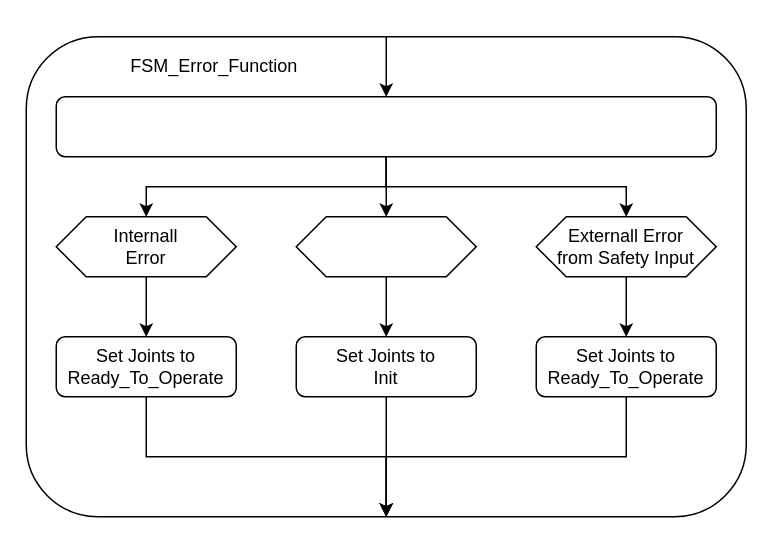
Image size: 773x555. Some labels were removed from this diagram. Each missing label, with the centre of its shape:
Clear Trajectory: [385,126]
Externall Error from CAN: [385,246]
